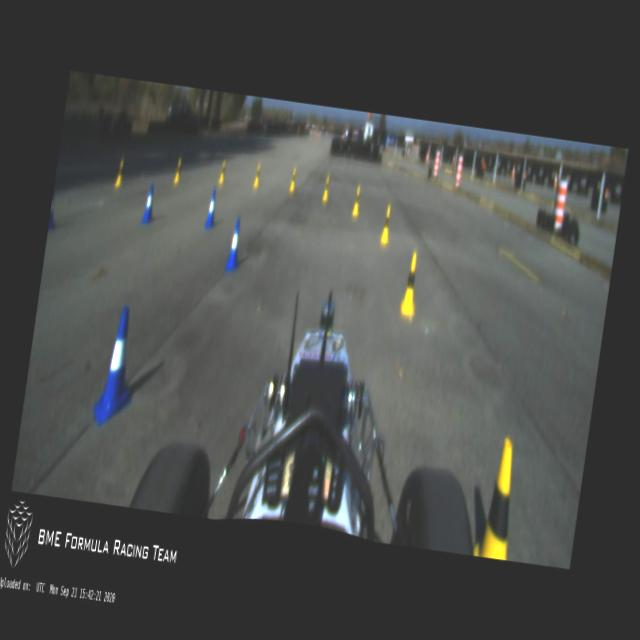blue_cone: (91, 304, 145, 430), (224, 217, 244, 272), (140, 182, 160, 225), (204, 190, 220, 230), (48, 190, 60, 232)
yellow_cone: (472, 434, 524, 561), (398, 250, 424, 318), (379, 203, 394, 246), (352, 185, 362, 218), (114, 158, 125, 188), (322, 175, 332, 202), (173, 158, 183, 185), (288, 167, 298, 193), (253, 163, 262, 189), (218, 160, 227, 185)
